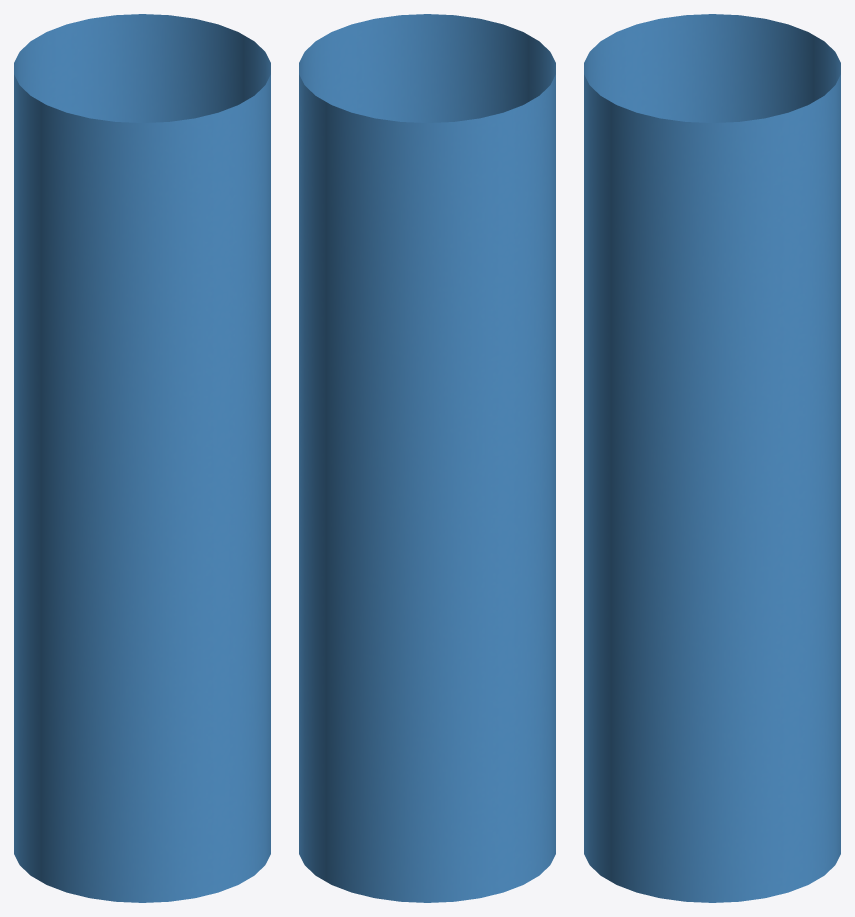
File: CheckPoint_Circle_v1.fbx
3 renders of one model, left to right at view 1: azimuth 30°, elevation 25°; view 2: azimuth 150°, elevation 25°; view 3: azimuth 270°, elevation 25°, orthographic.
Visible parts, largest first — view 1: pCylinder1; view 2: pCylinder1; view 3: pCylinder1.
Boxes of the visible parts, bbox=[...] form: pCylinder1: bbox=[14, 14, 270, 902]; pCylinder1: bbox=[299, 14, 555, 902]; pCylinder1: bbox=[584, 14, 840, 902].
Bounding box in the file's own units: 6 × 20 × 5.97.
Materials: 1 (1 with a texture image).
